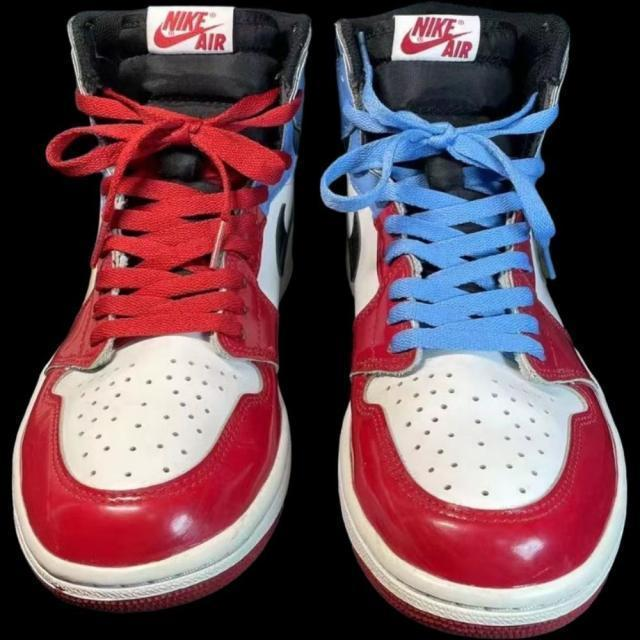nike original jordan 1: (0, 0, 318, 609), (330, 0, 632, 640)
